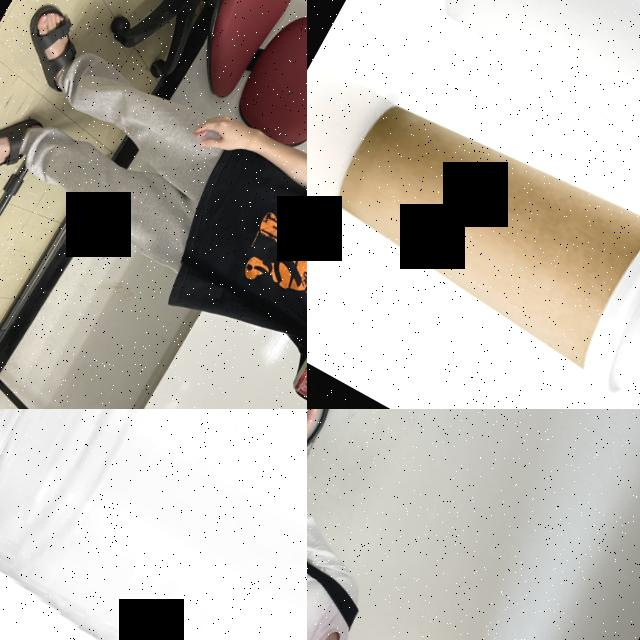cup: (307, 61, 640, 409), (0, 409, 307, 640), (411, 0, 640, 230)
